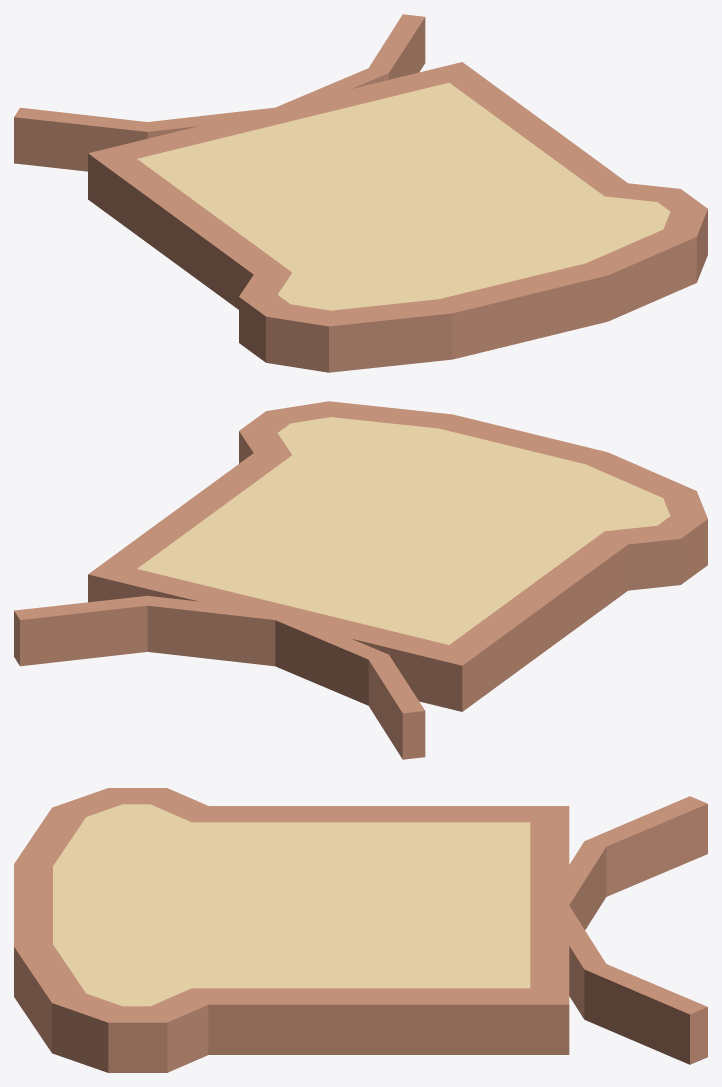
Rendered from hat-bread.glb.
3 renders of one model, top to bottom at view 1: azimuth 30°, elevation 25°; view 2: azimuth 150°, elevation 25°; view 3: azimuth 270°, elevation 25°, orthographic. The views are drawn at different scales.
Parts seen in each view (by area): view 1: hat-bread; view 2: hat-bread; view 3: hat-bread.
Boxes of the visible parts, box(x1,y1,x2,y2) form: hat-bread: box(14, 14, 707, 372); hat-bread: box(14, 401, 707, 759); hat-bread: box(14, 788, 707, 1072).
Size of the model in its own units: 1 by 0.1 by 1.25.
1 material, 1 textured.
